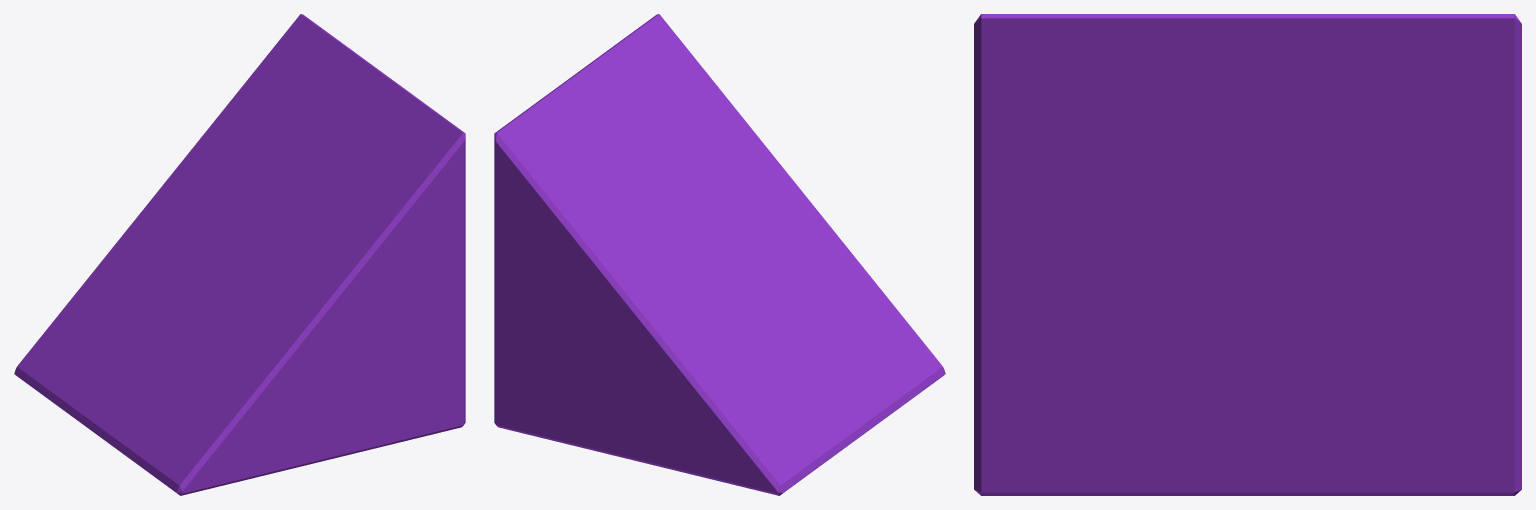
File: SM_BuildingblockTriangle.fbx
The picture shows the model from 3 angles, left to right: view 1: azimuth 30°, elevation 25°; view 2: azimuth 150°, elevation 25°; view 3: azimuth 270°, elevation 25°; orthographic projection. The views are drawn at different scales.
Visible parts, largest first — view 1: SM_BuildingblockTriangle; view 2: SM_BuildingblockTriangle; view 3: SM_BuildingblockTriangle.
Boxes of the visible parts, <box> form: SM_BuildingblockTriangle: <box>14,14,465,495</box>; SM_BuildingblockTriangle: <box>494,14,945,495</box>; SM_BuildingblockTriangle: <box>974,14,1521,495</box>.
Size of the model in its own units: 53.05 by 51.57 by 53.05.
